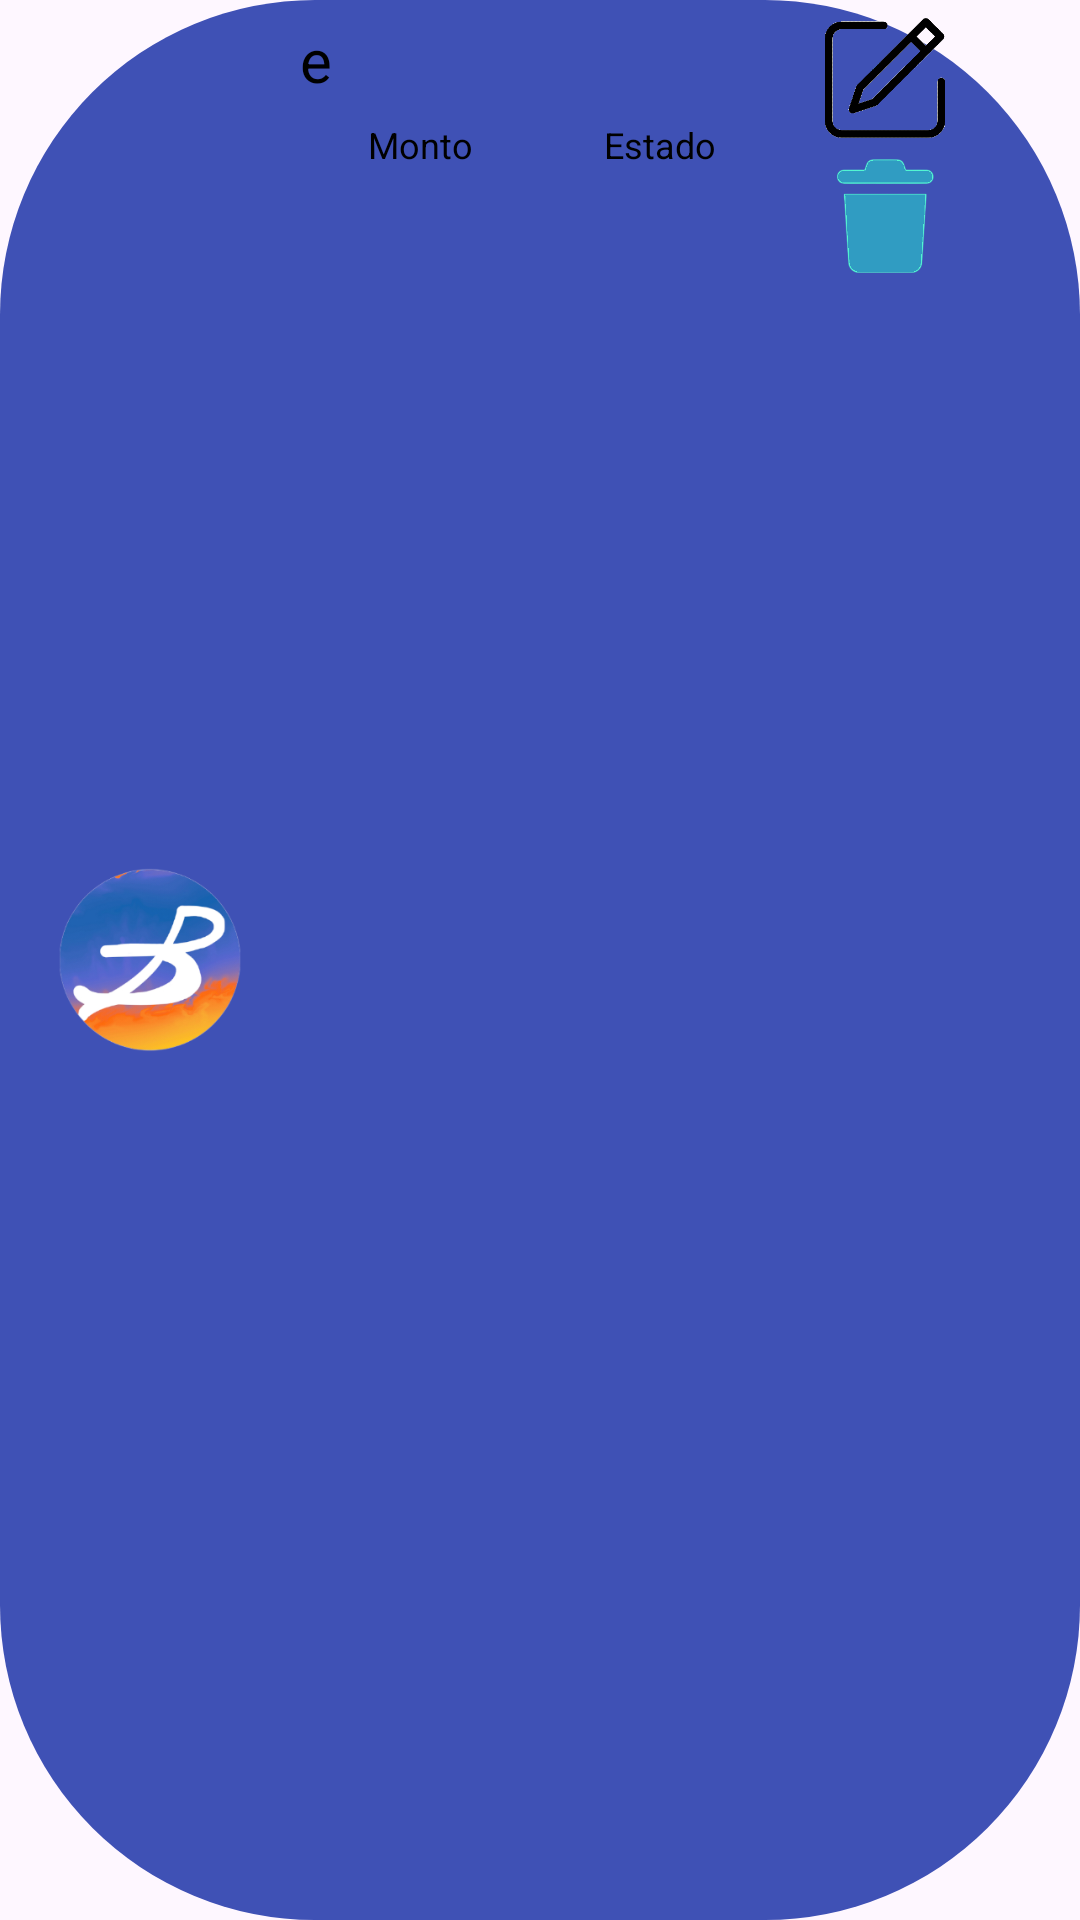

Icons on this 1080w x 1920h Android screen, each with the point to tap as (x=x, y=y):
basurita: (x=885, y=216)
editar: (x=907, y=78)
